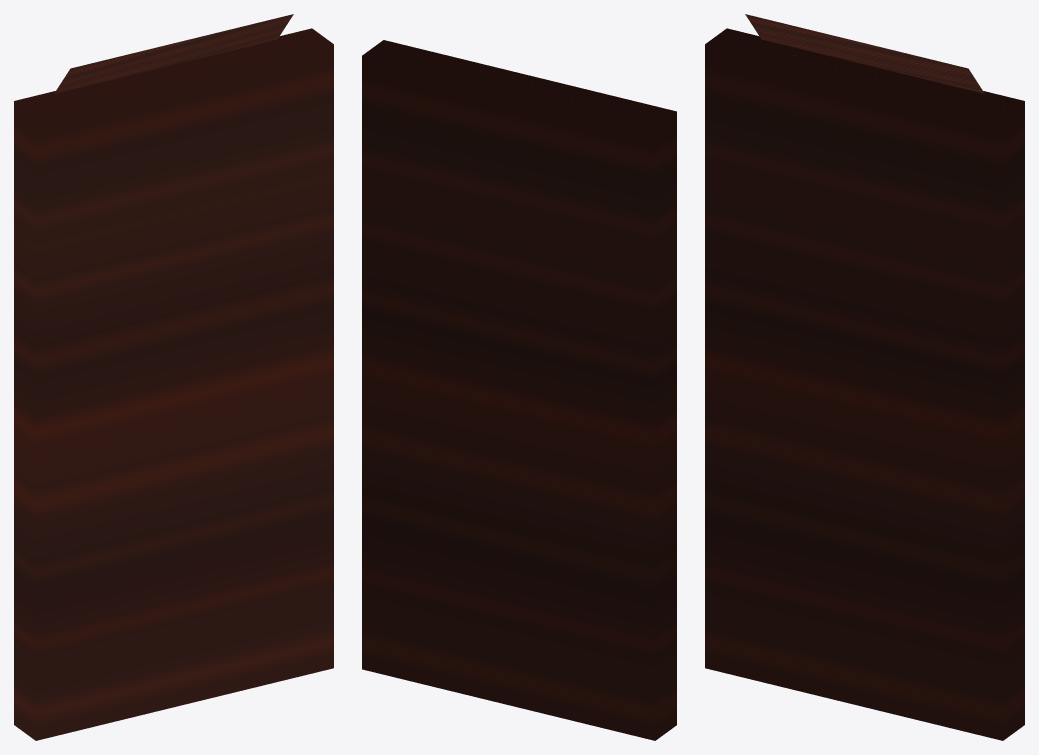
Rendered from trap_t13_alarmed_door.glb.
The picture shows the model from 3 angles, left to right: view 1: azimuth 30°, elevation 25°; view 2: azimuth 150°, elevation 25°; view 3: azimuth 330°, elevation 25°; orthographic projection.
Visible parts, largest first — view 1: trap_t13_alarmed_door; view 2: trap_t13_alarmed_door; view 3: trap_t13_alarmed_door.
Boxes of the visible parts, <box> form: trap_t13_alarmed_door: <box>14,14,333,740</box>; trap_t13_alarmed_door: <box>362,40,676,740</box>; trap_t13_alarmed_door: <box>705,14,1024,740</box>.
Size of the model in its own units: 1.1 by 2.33 by 0.14.
Materials: 1 (1 with a texture image).
